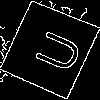U: (24, 24, 84, 76)
